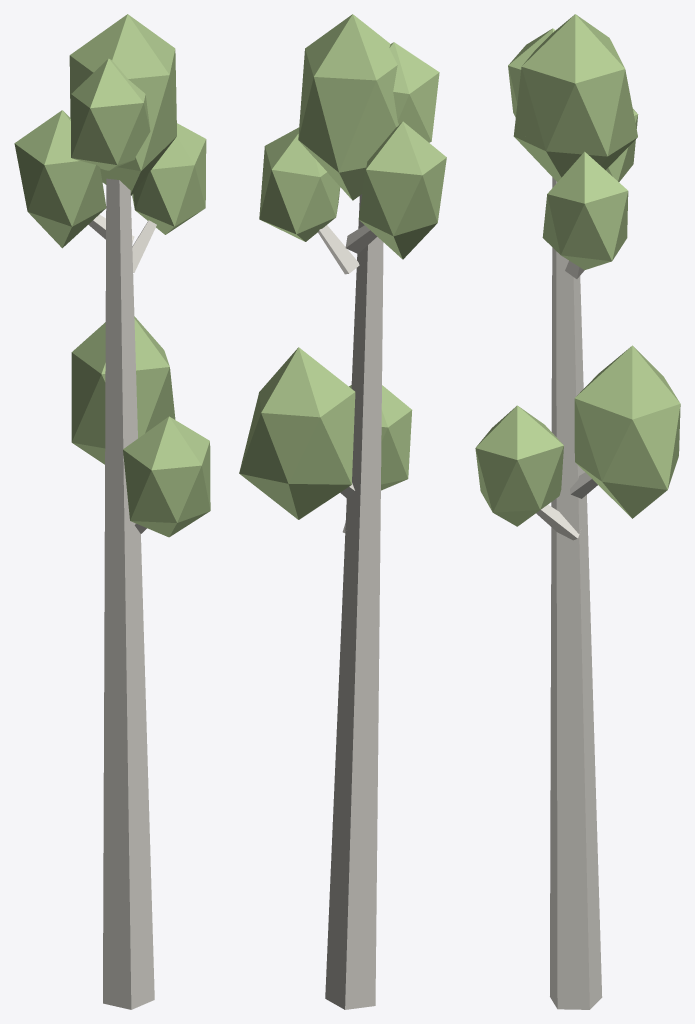
File: arv_betula_5_sem_textura.glb
3 renders of one model, left to right at view 1: azimuth 30°, elevation 25°; view 2: azimuth 150°, elevation 25°; view 3: azimuth 270°, elevation 25°, orthographic.
Parts seen in each view (by area): view 1: arv_betula_5; view 2: arv_betula_5; view 3: arv_betula_5.
Boxes of the visible parts, bbox=[...] form: arv_betula_5: bbox=[14, 14, 210, 1009]; arv_betula_5: bbox=[239, 14, 446, 1009]; arv_betula_5: bbox=[475, 14, 680, 1009].
Size of the model in its own units: 0.4789 by 2.56 by 0.4829.
